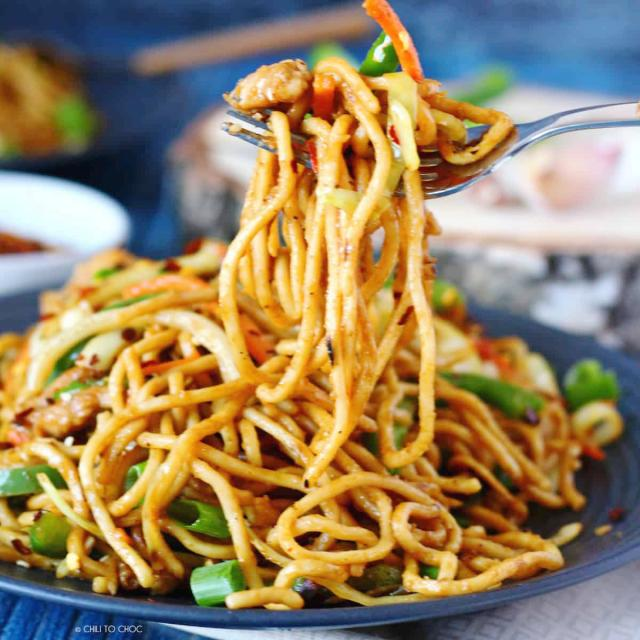Chow Mein: (0, 1, 620, 608), (234, 3, 516, 476)
